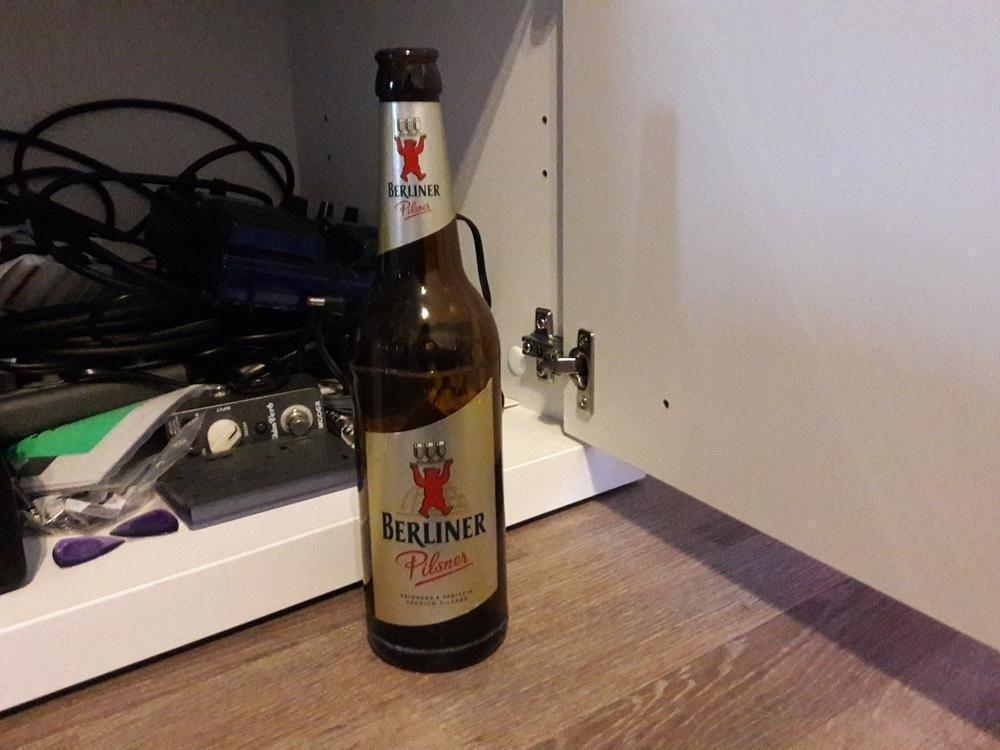bottle-glass: (352, 45, 510, 675)
